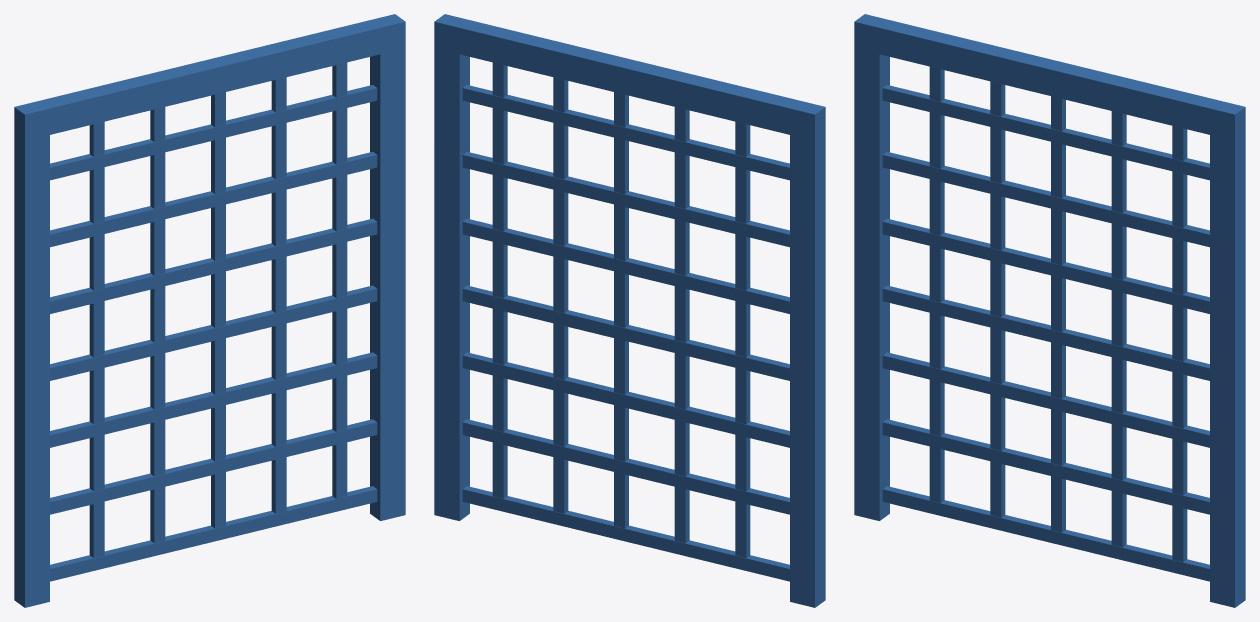
File: Fence_1_D_2.fbx
The picture shows the model from 3 angles, left to right: view 1: azimuth 30°, elevation 25°; view 2: azimuth 150°, elevation 25°; view 3: azimuth 330°, elevation 25°; orthographic projection.
Visible parts, largest first — view 1: Fence_1_D_2; view 2: Fence_1_D_2; view 3: Fence_1_D_2.
Boxes of the visible parts, left/top/right/bottom form: Fence_1_D_2: left=14, top=14, right=405, bottom=607; Fence_1_D_2: left=434, top=14, right=825, bottom=607; Fence_1_D_2: left=854, top=14, right=1245, bottom=607.
Size of the model in its own units: 200 by 248 by 9.6.
